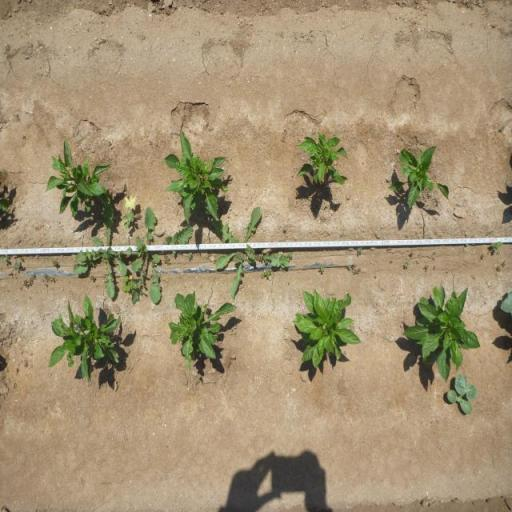plant: (402, 281, 482, 375), (48, 295, 122, 386), (164, 127, 232, 222), (290, 286, 362, 370), (166, 292, 238, 372), (43, 137, 106, 218), (386, 144, 450, 210), (294, 129, 350, 188)
weed: (71, 195, 131, 300), (207, 207, 262, 300), (131, 207, 165, 307), (446, 372, 478, 416), (163, 225, 192, 257), (118, 194, 140, 232), (271, 249, 294, 271), (24, 271, 38, 290), (40, 272, 58, 284), (121, 274, 132, 292), (261, 268, 273, 281), (262, 252, 272, 266), (490, 242, 504, 252), (13, 256, 20, 272), (0, 254, 10, 264), (318, 264, 326, 276), (164, 256, 172, 266), (347, 262, 357, 270), (352, 268, 361, 276), (89, 274, 96, 283), (356, 246, 363, 255), (422, 264, 429, 272), (258, 252, 264, 261), (188, 252, 193, 262), (495, 265, 502, 272), (52, 260, 58, 268), (501, 260, 507, 268), (480, 253, 486, 261), (386, 245, 392, 252), (403, 262, 410, 268), (408, 251, 414, 258)
